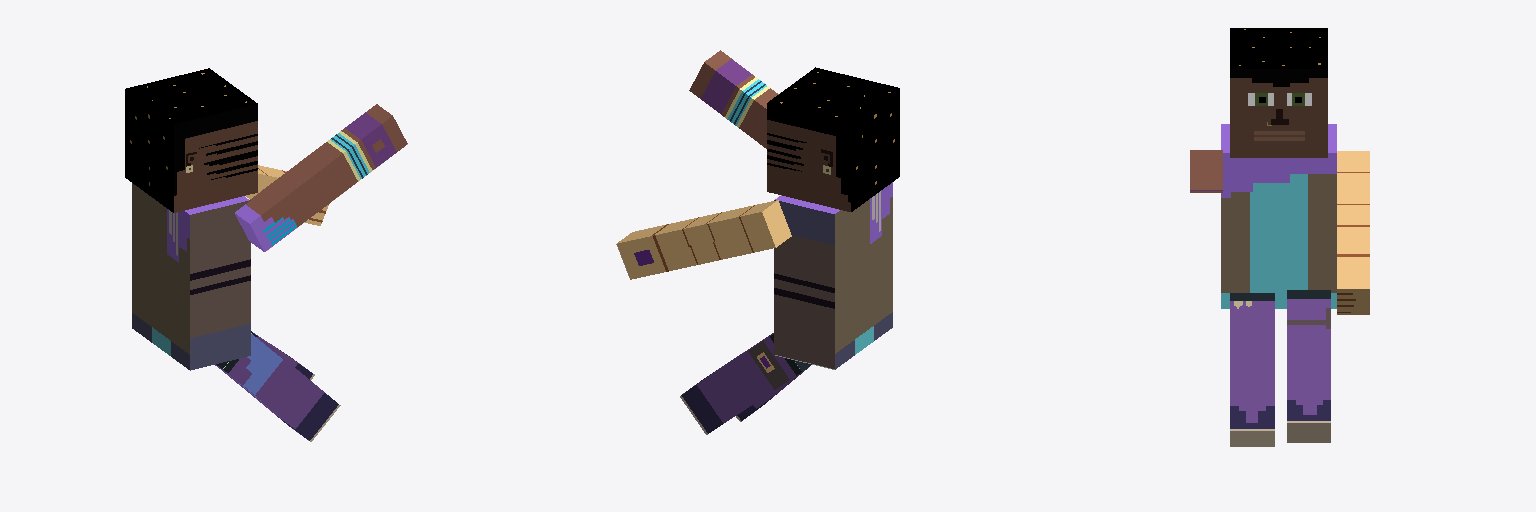
3 views of the same model, side by side, from view 1: azimuth 30°, elevation 25°; view 2: azimuth 150°, elevation 25°; view 3: azimuth 270°, elevation 25° (orthographic).
Visible parts, largest first — view 1: pCube62, pCube65, pCube64, pCube66, pCube63; view 2: pCube62, pCube65, pCube63, pCube67, pCube64; view 3: pCube62, pCube65, pCube66, pCube67, pCube63, pCube64.
Boxes of the visible parts, x1,y1,x2,y2 form: pCube62: [132, 183, 250, 370]; pCube65: [125, 68, 257, 212]; pCube64: [235, 104, 407, 251]; pCube66: [215, 331, 340, 441]; pCube63: [246, 165, 328, 225]; pCube62: [774, 182, 892, 369]; pCube65: [767, 67, 899, 211]; pCube63: [616, 200, 791, 279]; pCube67: [680, 333, 811, 434]; pCube64: [689, 50, 778, 148]; pCube62: [1221, 124, 1336, 308]; pCube65: [1230, 28, 1327, 157]; pCube66: [1230, 293, 1274, 446]; pCube67: [1287, 290, 1330, 442]; pCube63: [1337, 151, 1369, 314]; pCube64: [1190, 150, 1222, 192].
Bounding box in the file's own units: 1.06 × 1.65 × 0.7628.
1 materials, 1 textured.